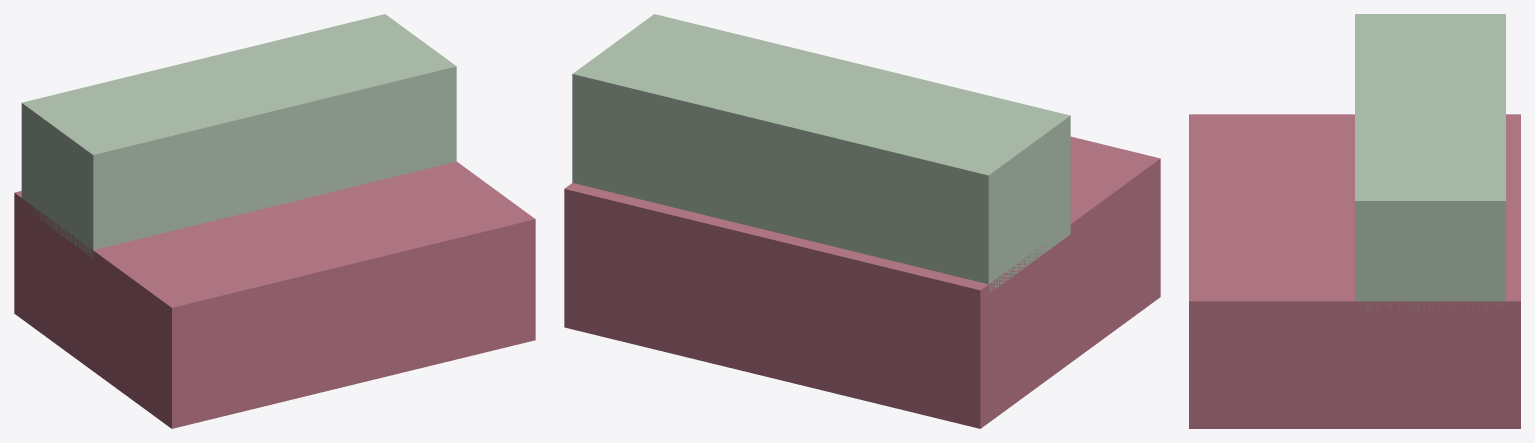
The model's file is 199504_pred.glb.
The picture shows the model from 3 angles, left to right: view 1: azimuth 30°, elevation 25°; view 2: azimuth 150°, elevation 25°; view 3: azimuth 270°, elevation 25°; orthographic projection. The views are drawn at different scales.
Visible parts, largest first — view 1: world; view 2: world; view 3: world.
Part boxes in pixels (x1=…): world: x1=14, y1=14, x2=535, y2=428; world: x1=564, y1=14, x2=1160, y2=428; world: x1=1189, y1=14, x2=1520, y2=428.
Size of the model in its own units: 4.4 by 2.5 by 3.3.
